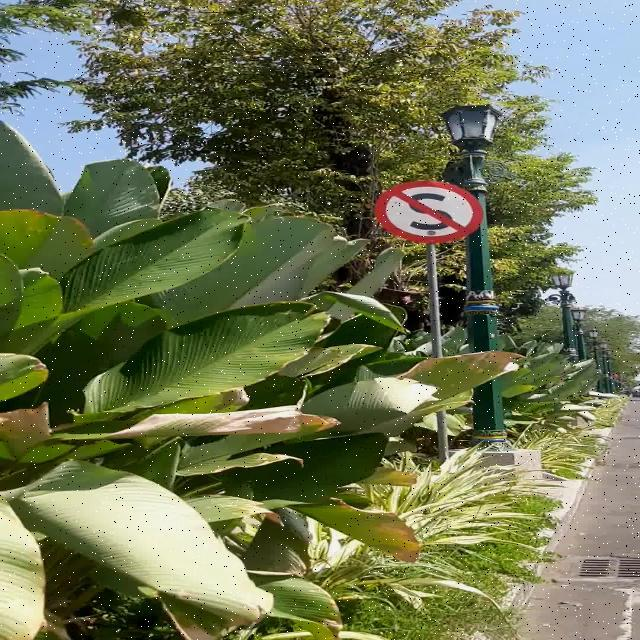Dilarang Berhenti: (375, 181, 483, 243)
